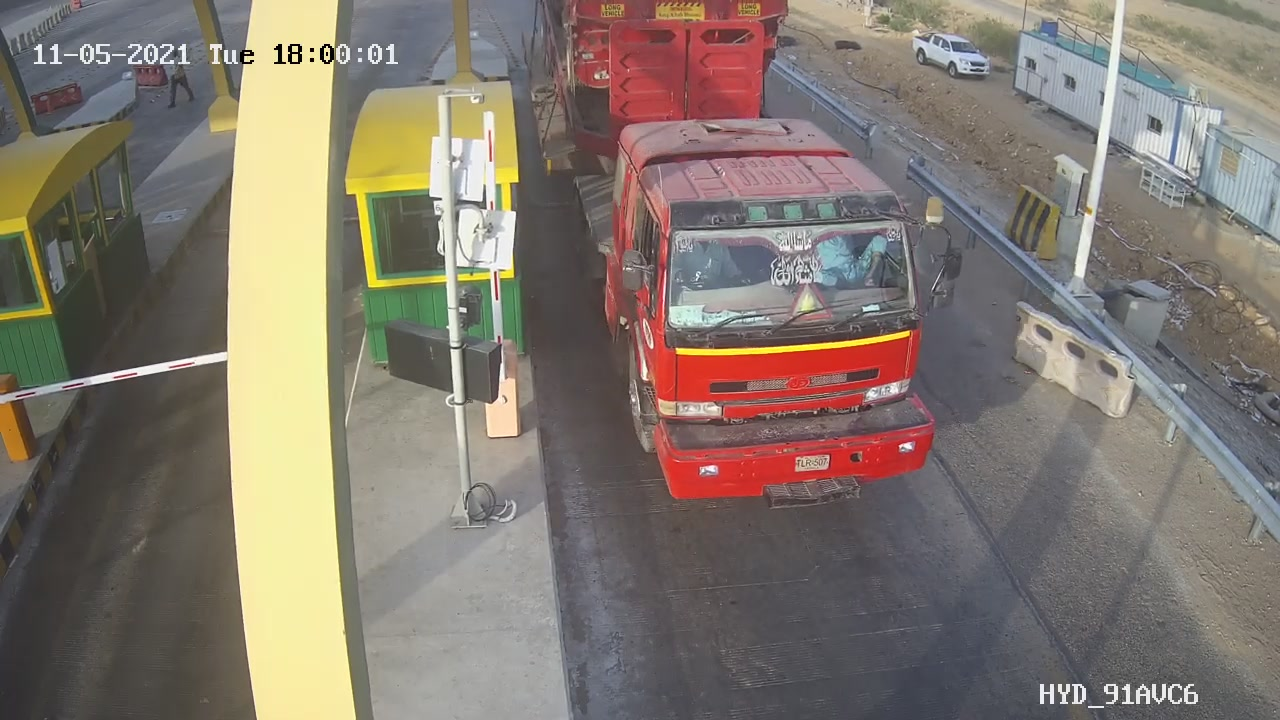F6: (539, 1, 913, 518)
